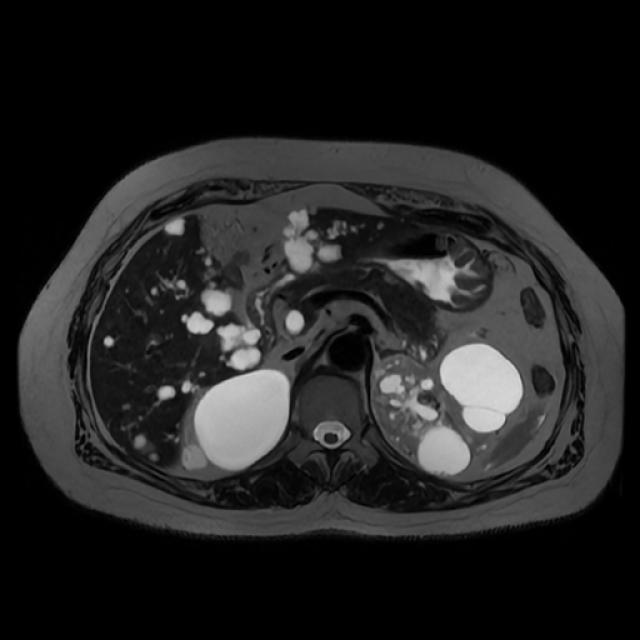sag: (183, 367, 290, 471)
sol: (373, 341, 521, 476)
